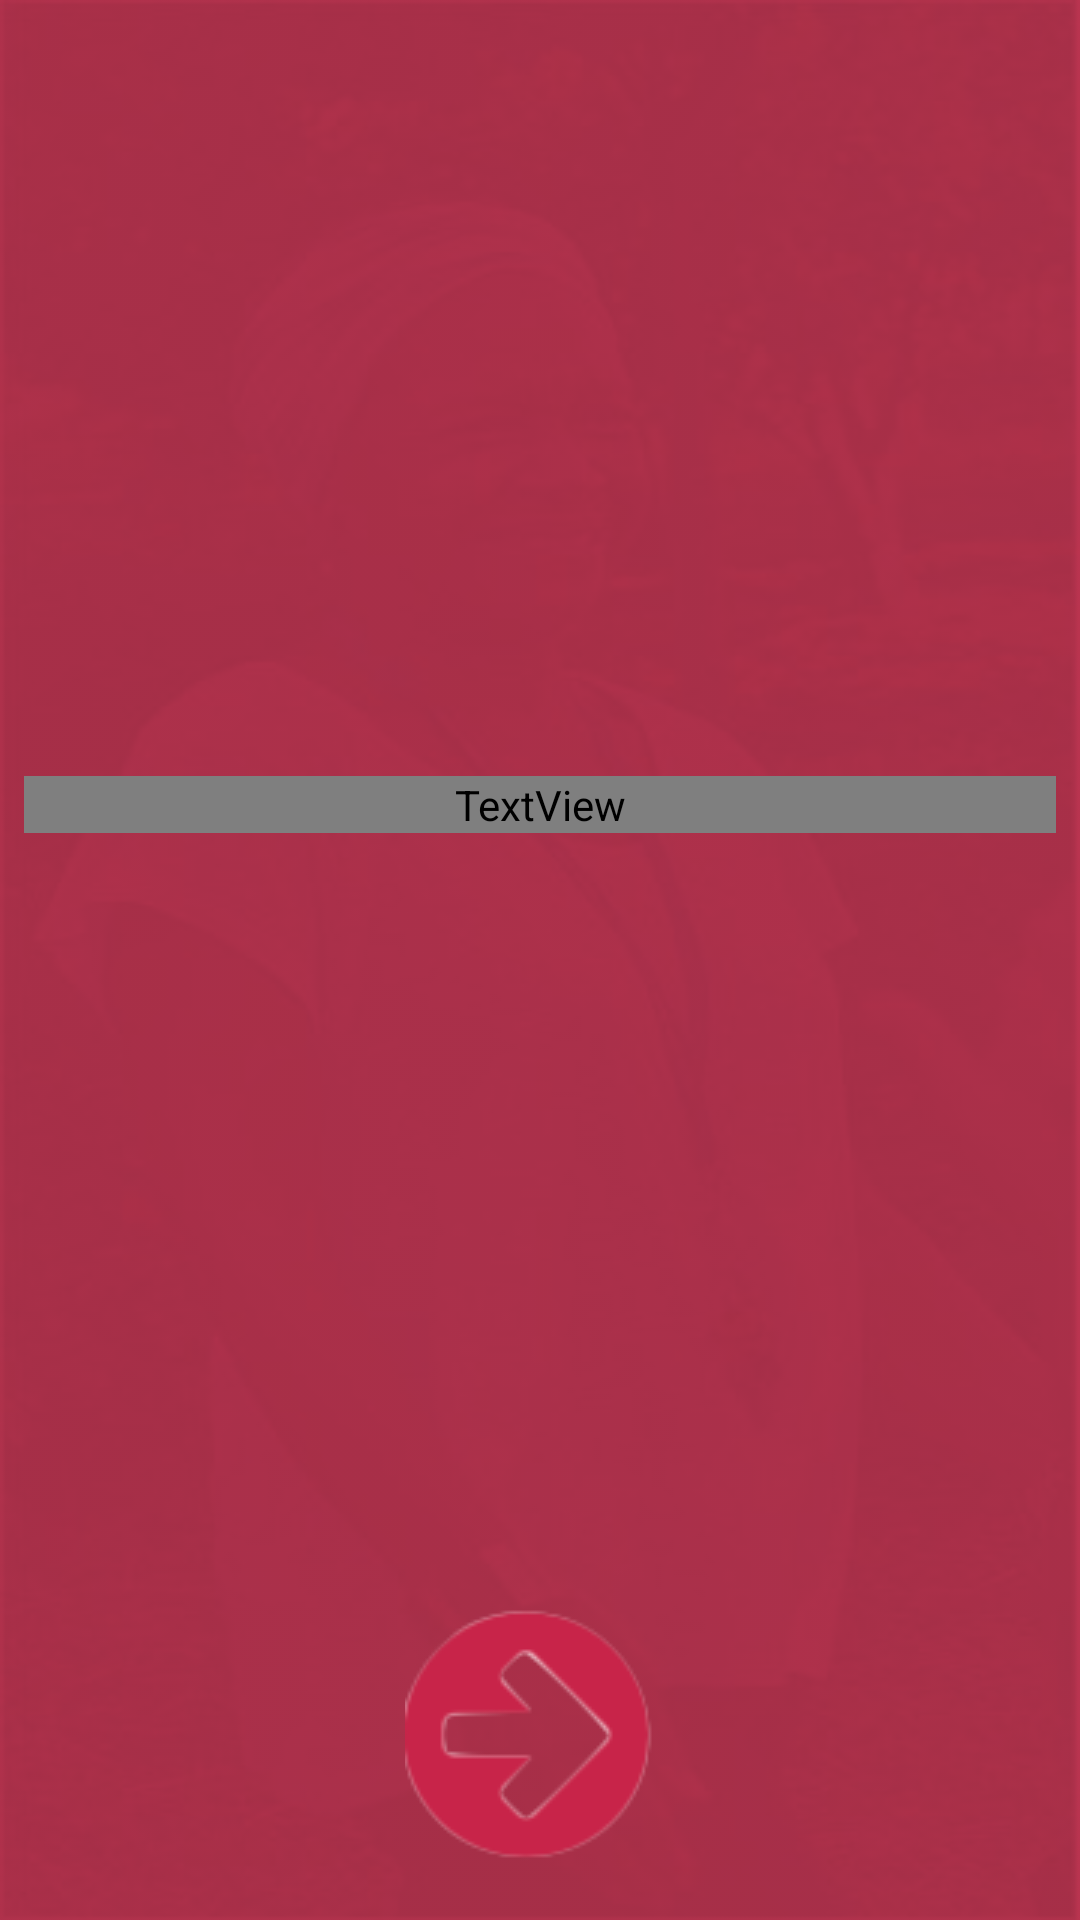

Screen size 1080*1920. Icon name, then its box in pixels as [x1, y1, x2, y2]:
next: [405, 1611, 650, 1856]
